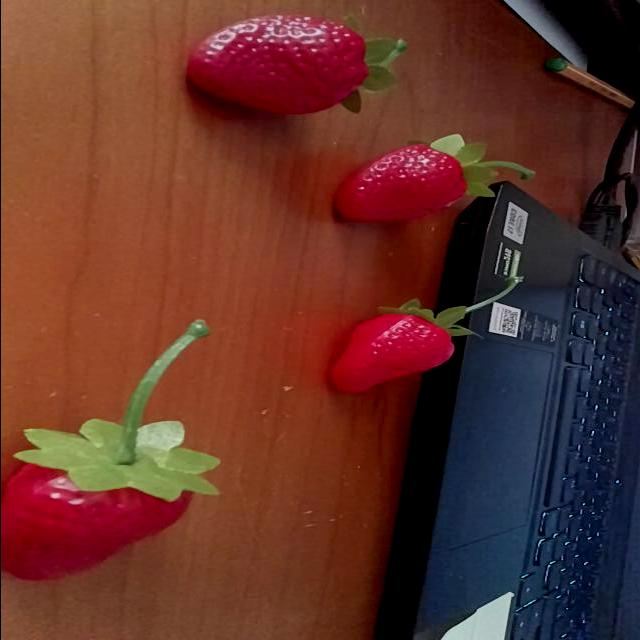ripe: (0, 408, 219, 590), (180, 9, 373, 119), (321, 298, 467, 404), (324, 136, 478, 234)
